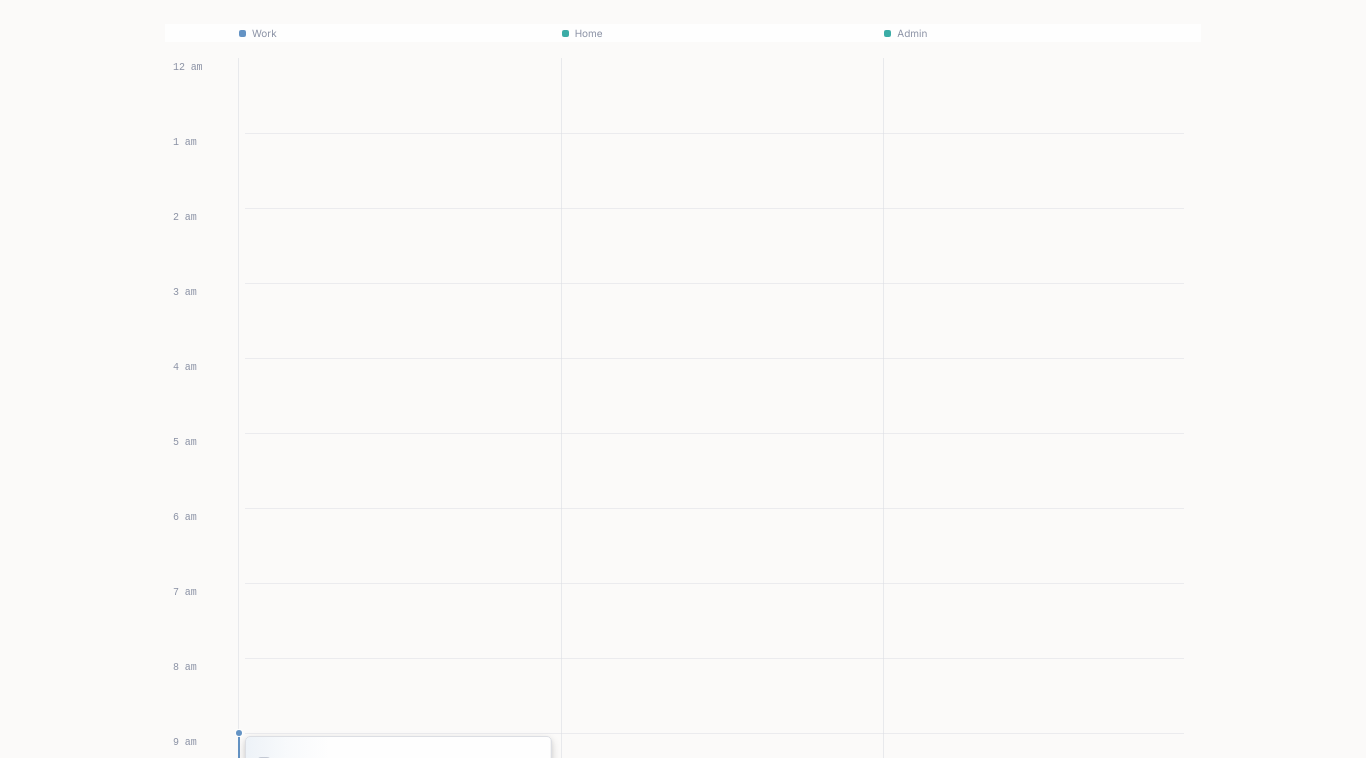
Test: focus recedes the other lanes › actually swaps the plate and the edge, rather than emitting a dead class
Click the button "Work": {"x": 242, "y": 33} [233,24,556,42]
(page scrolled)
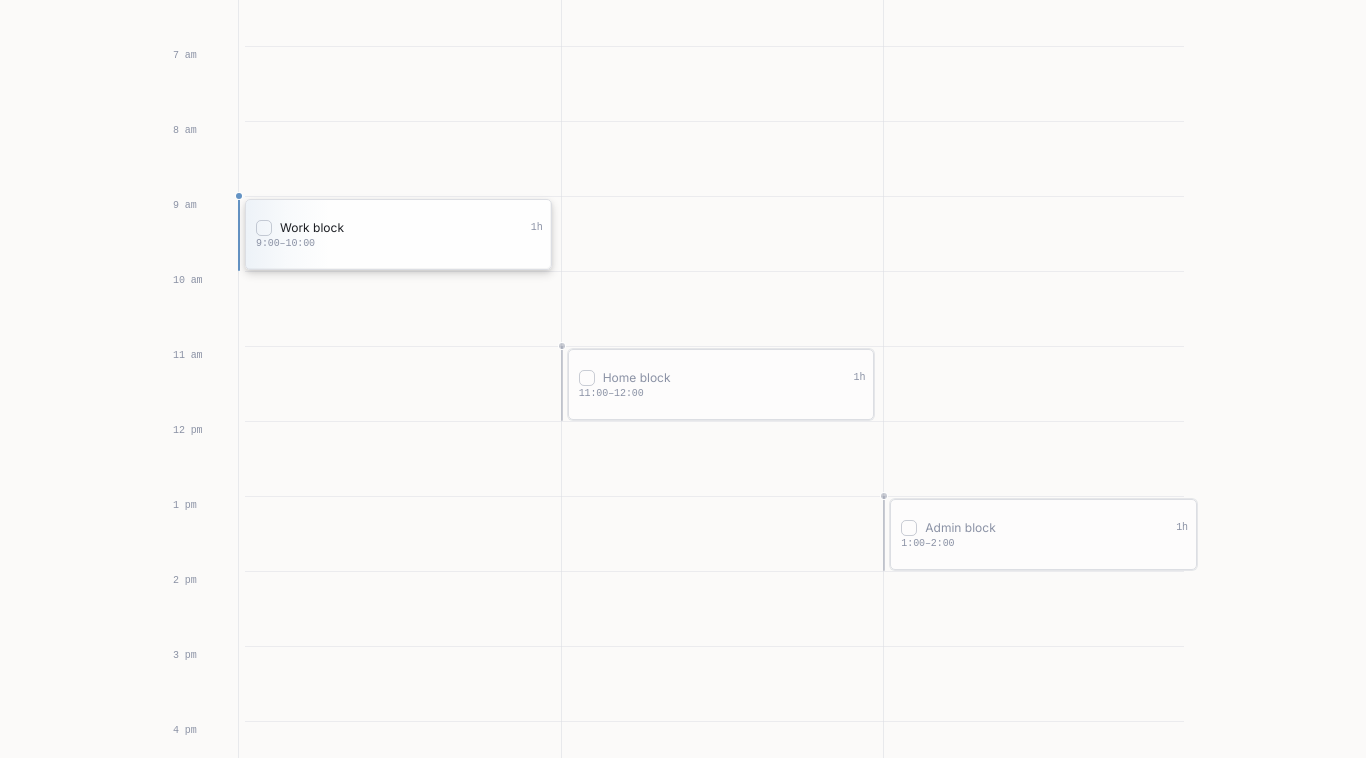
Result: the button "Home block 1h 11:00–12:00" has class "bg-[var(--grp-off-pane)]" at [568,349,874,420]
Result: the button "Home block 1h 11:00–12:00" has class "shadow-[var(--sched-shadow-off)]" at [568,349,874,420]
